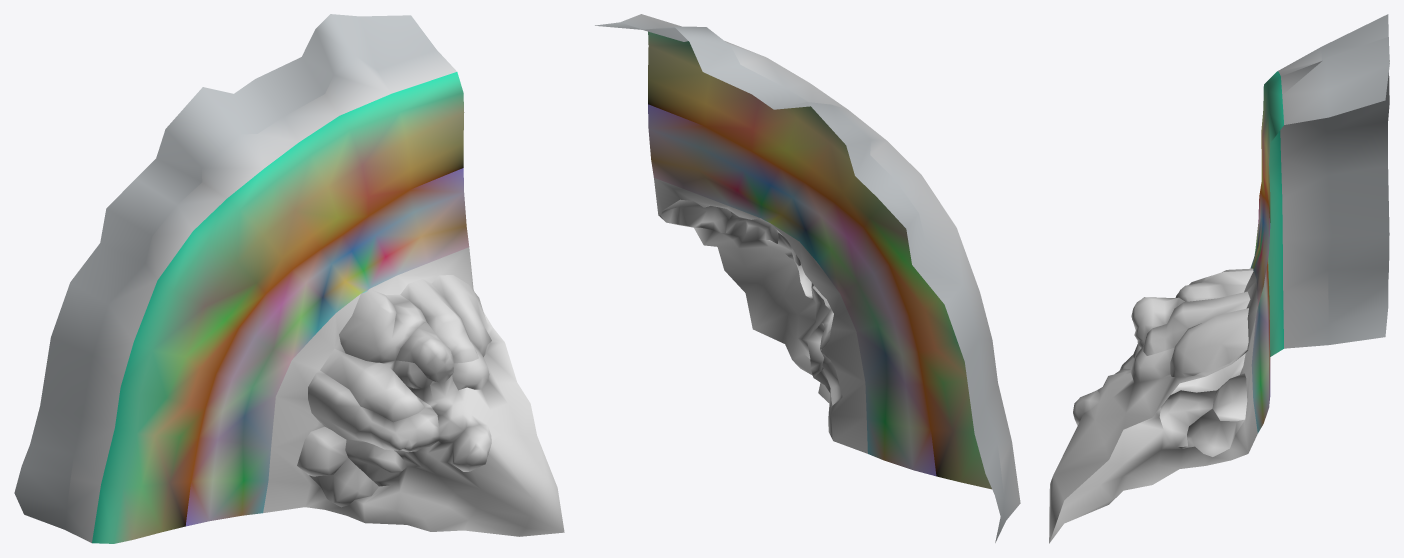
The model's file is Volcano_CurveOutA.glb.
The picture shows the model from 3 angles, left to right: view 1: azimuth 30°, elevation 25°; view 2: azimuth 150°, elevation 25°; view 3: azimuth 270°, elevation 25°; orthographic projection. The views are drawn at different scales.
Visible parts, largest first — view 1: MeshNode_0, MeshNode_1; view 2: MeshNode_1, MeshNode_0; view 3: MeshNode_0, MeshNode_1.
Boxes of the visible parts, <box> form: MeshNode_0: <box>14,14,564,542</box>; MeshNode_1: <box>92,72,469,543</box>; MeshNode_1: <box>648,31,991,489</box>; MeshNode_0: <box>595,14,1020,542</box>; MeshNode_0: <box>1049,14,1389,543</box>; MeshNode_1: <box>1250,71,1284,433</box>.
Bounding box in the file's own units: 91.05 × 93.39 × 62.04.
